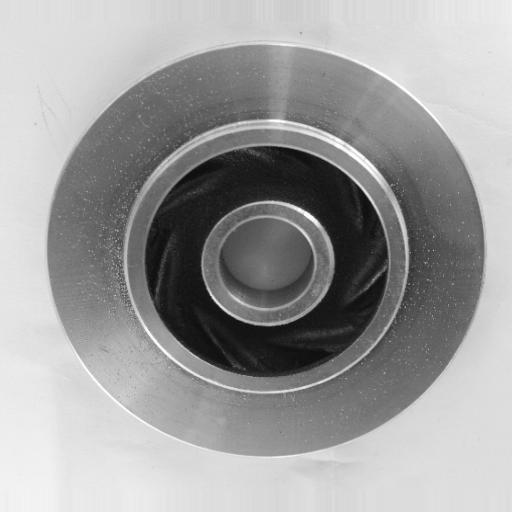polished_casting: (45, 40, 485, 460)
